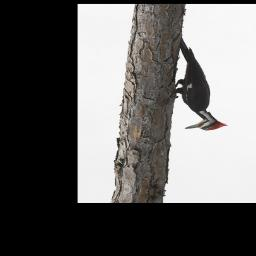Woodpecker: (168, 35, 241, 133)
